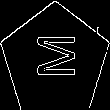M_W: (31, 38, 79, 84)
